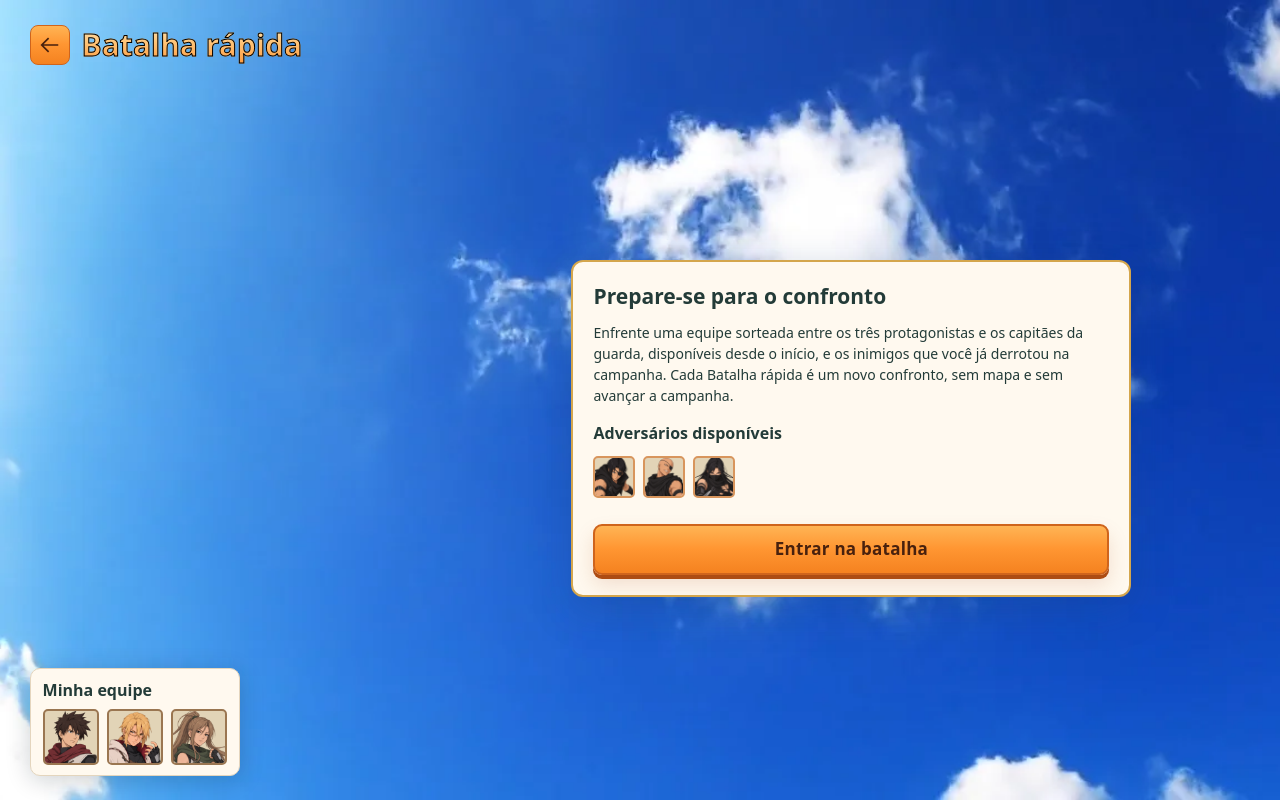
it: mostra o prazo retornado no erro 429 e impede novas tentativas durante o bloqueio
Check: the list named "Adversários disponíveis" is shown, box top-left (594, 456), bottom-right (736, 498)
Click the button "Entrar na batalha": (852,550) top-left (594, 524), bottom-right (1110, 575)
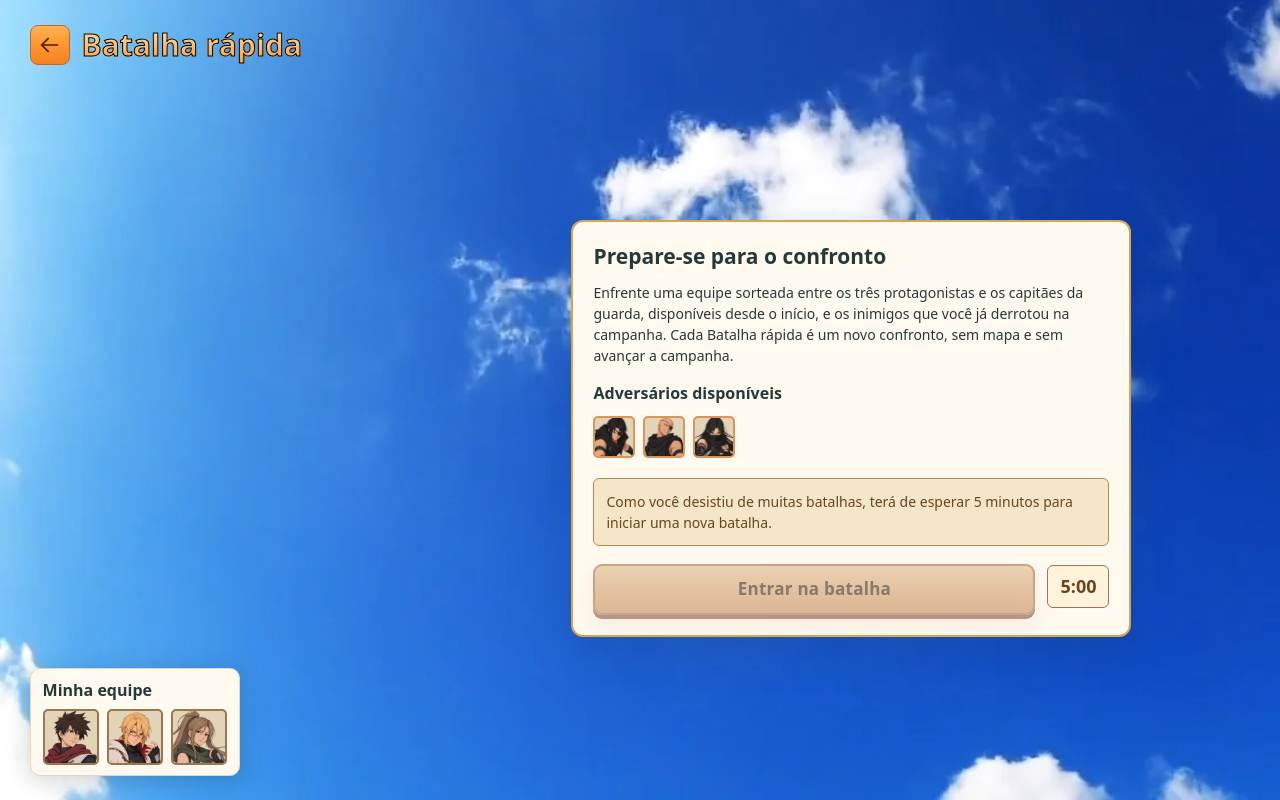
Check: the text "5:00" is shown, box top-left (1047, 565), bottom-right (1109, 608)
Check: the button "Entrar na batalha" is disabled, box top-left (594, 564), bottom-right (1036, 615)
